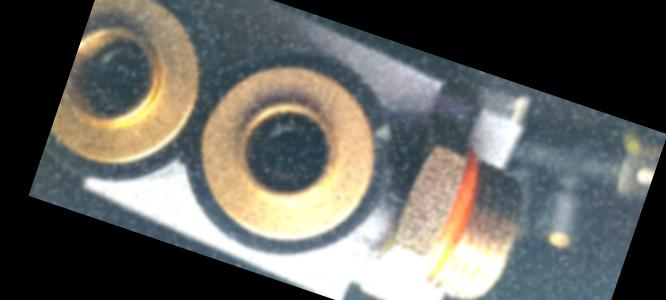bump: (363, 118, 405, 169)
white mark: (385, 194, 407, 212)
